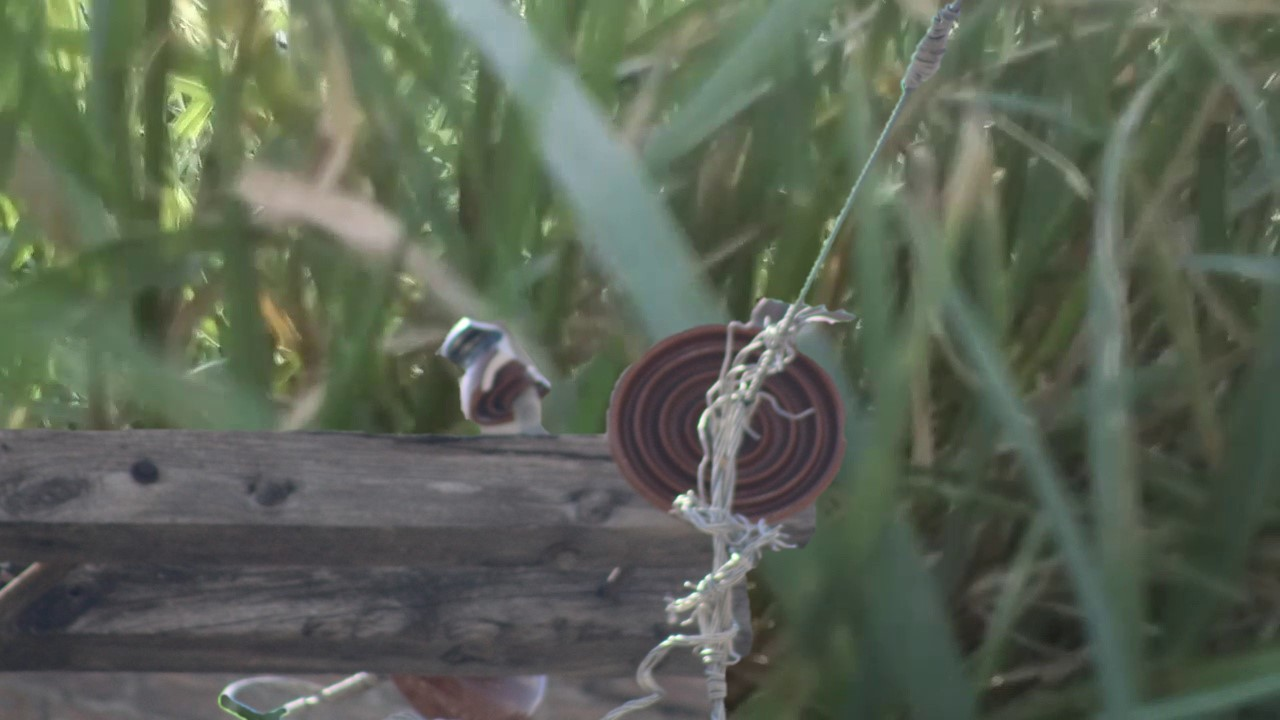defect_pin: (437, 312, 554, 441)
insulator_disc: (603, 316, 855, 538)
